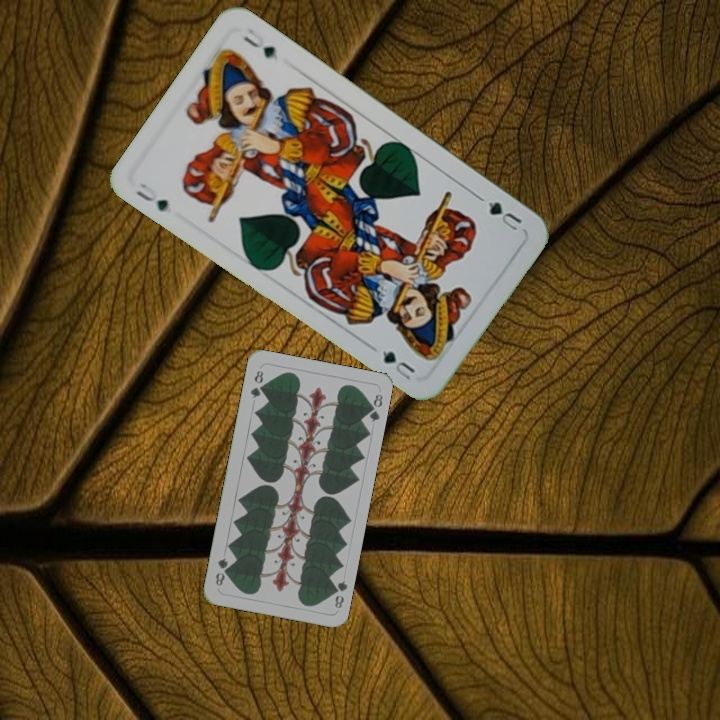G8: (328, 576, 350, 611), (246, 366, 266, 401)
GU: (484, 197, 525, 234), (131, 179, 171, 214)
